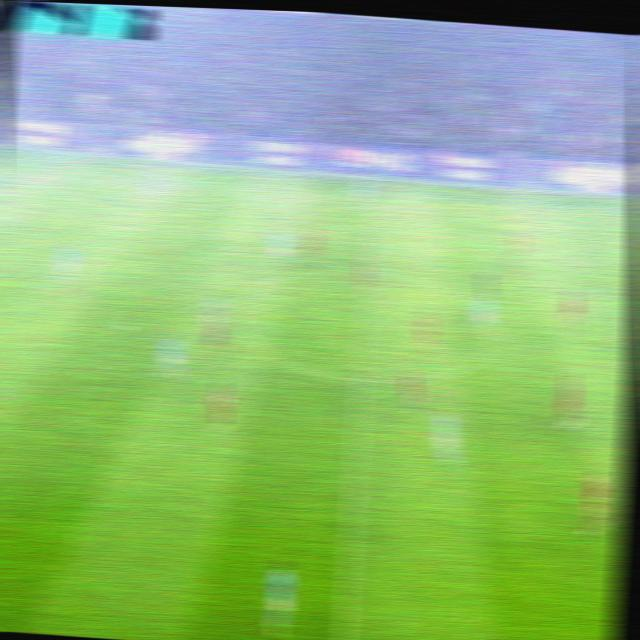halfcircle_bottom: (348, 364, 375, 396)
halfcircle_top: (361, 264, 376, 278)
midline_top_intersection: (364, 177, 384, 193)
